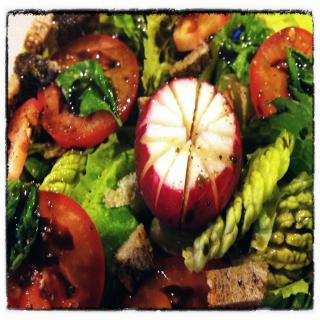tomato: (7, 188, 105, 308), (36, 34, 138, 146), (249, 26, 313, 117), (6, 98, 38, 178)
